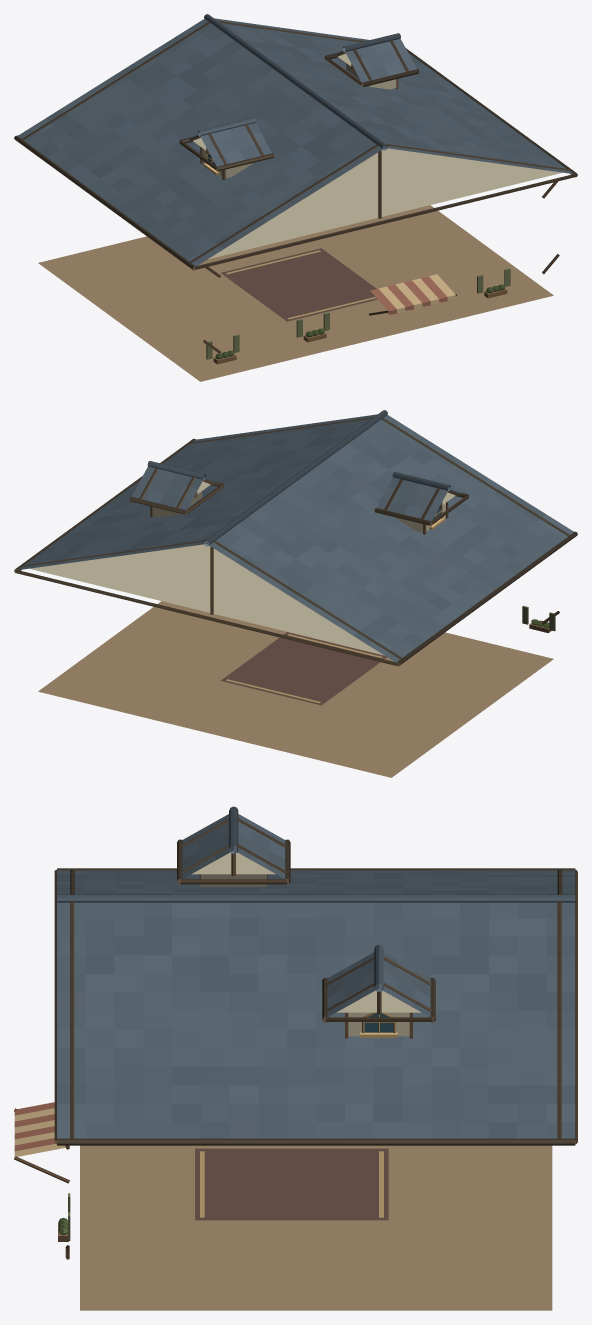
3 views of the same model, one above another, from view 1: azimuth 30°, elevation 25°; view 2: azimuth 150°, elevation 25°; view 3: azimuth 270°, elevation 25° (orthographic). The views are drawn at different scales.
Parts seen in each view (by area): view 1: 3936e48889930ca1a2bce826f2a5a58f5a10a082635e66bfb01f55abd376; view 2: 3936e48889930ca1a2bce826f2a5a58f5a10a082635e66bfb01f55abd376; view 3: 3936e48889930ca1a2bce826f2a5a58f5a10a082635e66bfb01f55abd376.
Boxes of the visible parts, left/top/right/bottom form: 3936e48889930ca1a2bce826f2a5a58f5a10a082635e66bfb01f55abd376: left=14, top=14, right=577, bottom=381; 3936e48889930ca1a2bce826f2a5a58f5a10a082635e66bfb01f55abd376: left=14, top=410, right=577, bottom=777; 3936e48889930ca1a2bce826f2a5a58f5a10a082635e66bfb01f55abd376: left=14, top=806, right=577, bottom=1310.
Size of the model in its own units: 16.02 by 7.94 by 13.98.
Materials: 6 (1 with a texture image).
